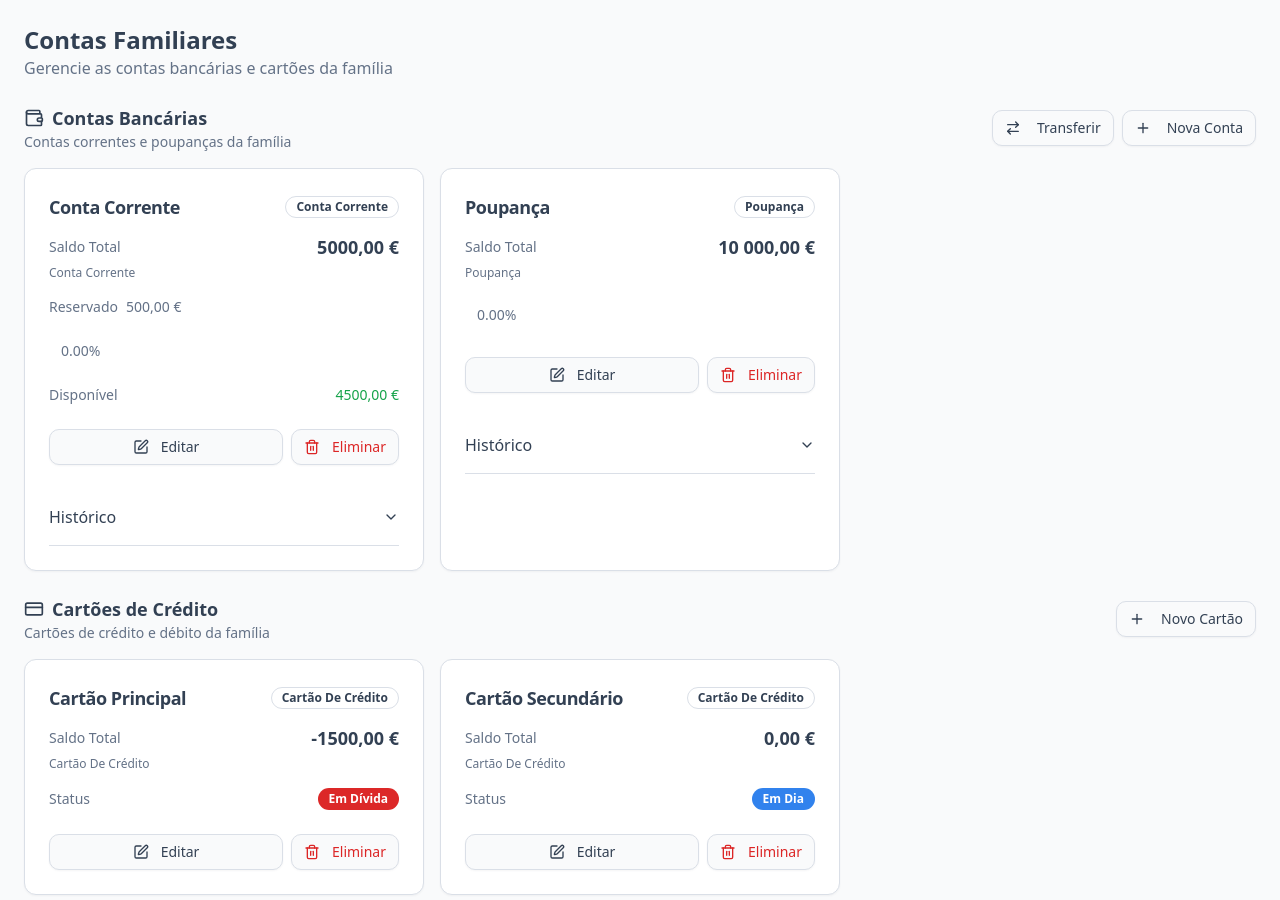
Test: FamilyAccounts - Cenários de Teste › Cenário 7: Operações CRUD › deve permitir editar conta existente
Check: the heading "Conta Corrente" is shown, box [49,193,180,221]
Click the button "Editar" below "Disponível": (166, 447) [49,429,283,465]
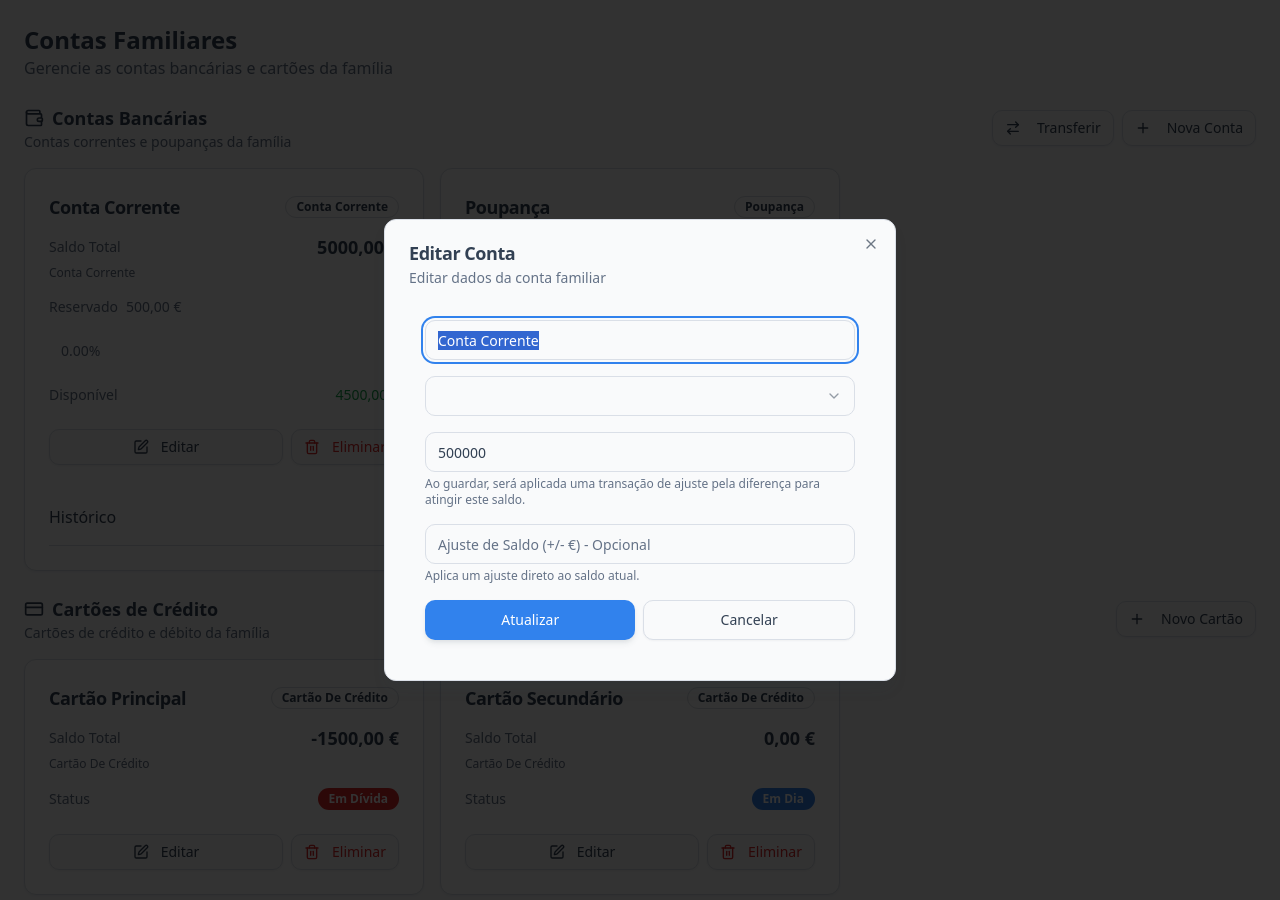
Check: the heading "Editar Conta" is shown, box [409,241,515,265]
